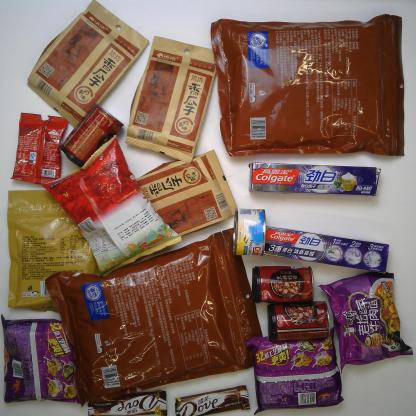Canned Food: (58, 102, 126, 168), (266, 300, 332, 342), (251, 263, 315, 305), (232, 206, 267, 258)
Chocolate: (175, 384, 251, 416), (87, 389, 168, 416)
Dried Food: (44, 227, 264, 409), (209, 11, 405, 159), (25, 0, 150, 128), (123, 34, 218, 164), (134, 148, 238, 237)
Dried Fruit: (5, 189, 103, 314)
Instant Drink: (10, 110, 70, 187)
Instant Noodles: (317, 271, 414, 375), (246, 324, 344, 415), (0, 313, 83, 408)
Personal Hygiene: (263, 225, 390, 274), (246, 160, 382, 199)
Puffed Food: (40, 134, 183, 279)
